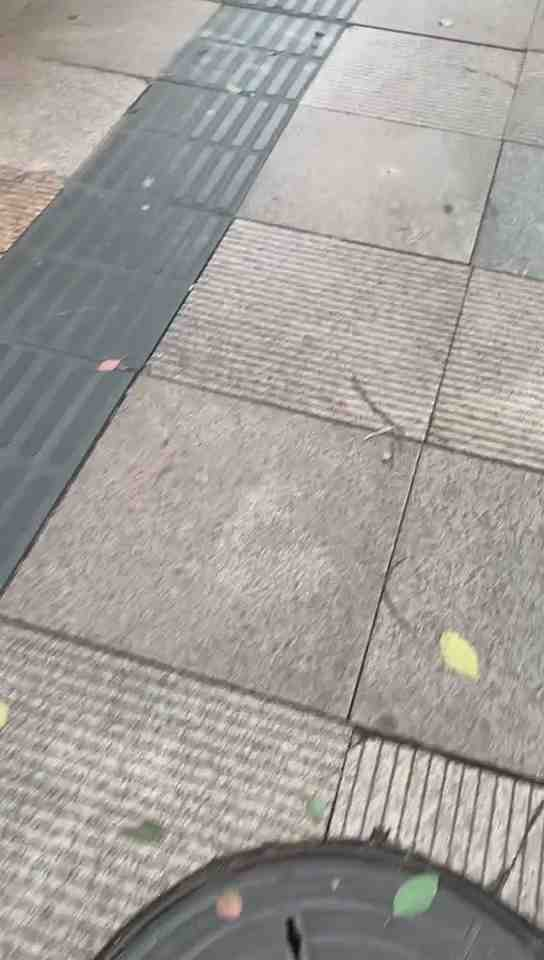leaf: (380, 866, 443, 927), (434, 625, 483, 686), (209, 882, 252, 929), (88, 350, 129, 380)
